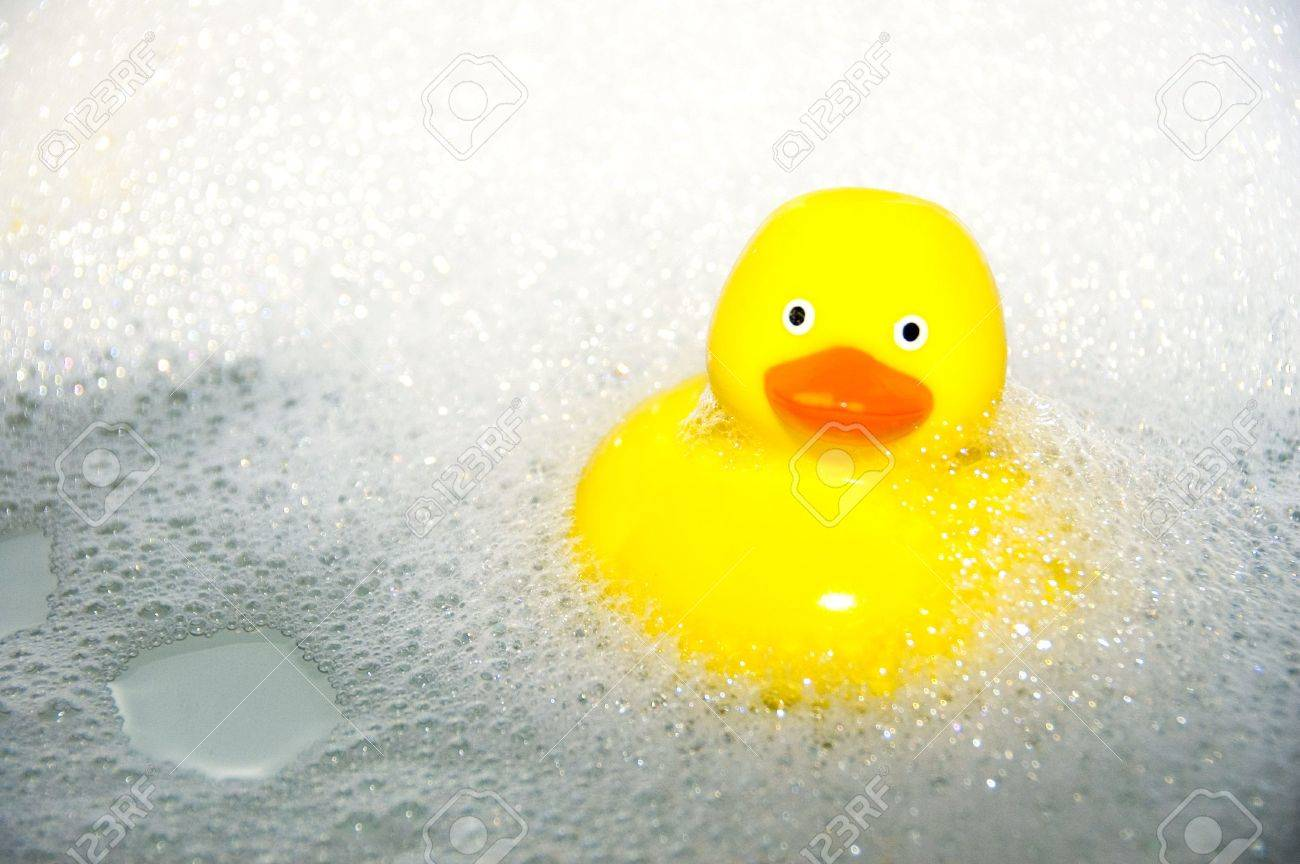Duck: (562, 180, 1118, 730)
